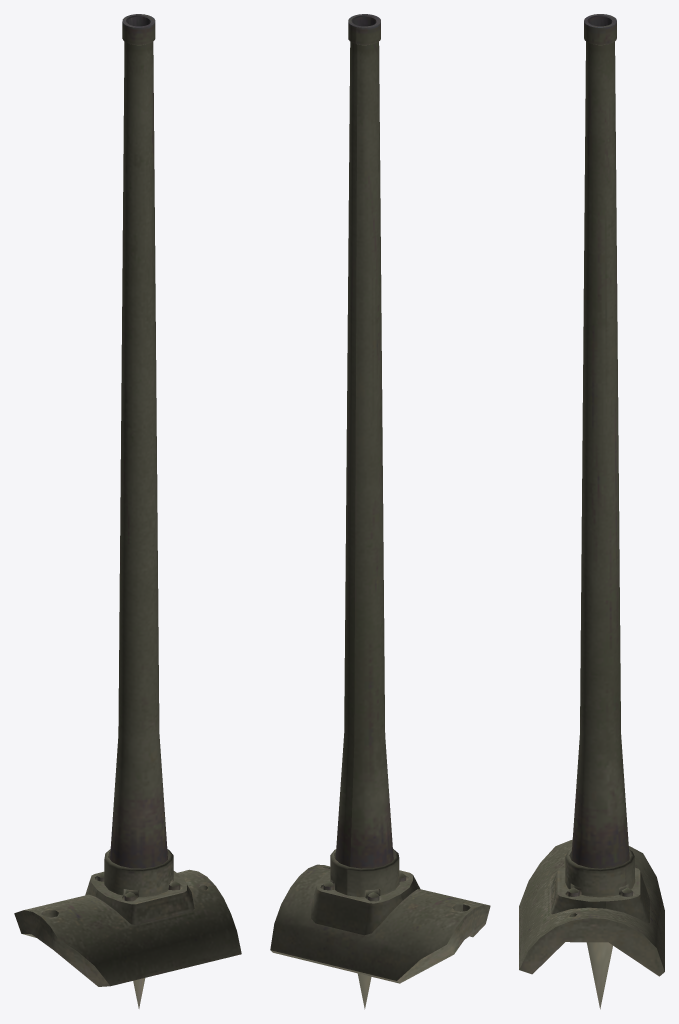
The model's file is Gun_08.glb.
3 renders of one model, left to right at view 1: azimuth 30°, elevation 25°; view 2: azimuth 150°, elevation 25°; view 3: azimuth 270°, elevation 25°, orthographic.
Parts seen in each view (by area): view 1: set_0_group_0; view 2: set_0_group_0; view 3: set_0_group_0.
Part boxes in pixels (x1,y1,x2,y2): set_0_group_0: (14, 14, 241, 1008); set_0_group_0: (270, 14, 490, 1009); set_0_group_0: (519, 14, 664, 1009).
Bounding box in the file's own units: 0.8031 × 4.58 × 0.6119.
1 material, 1 textured.
